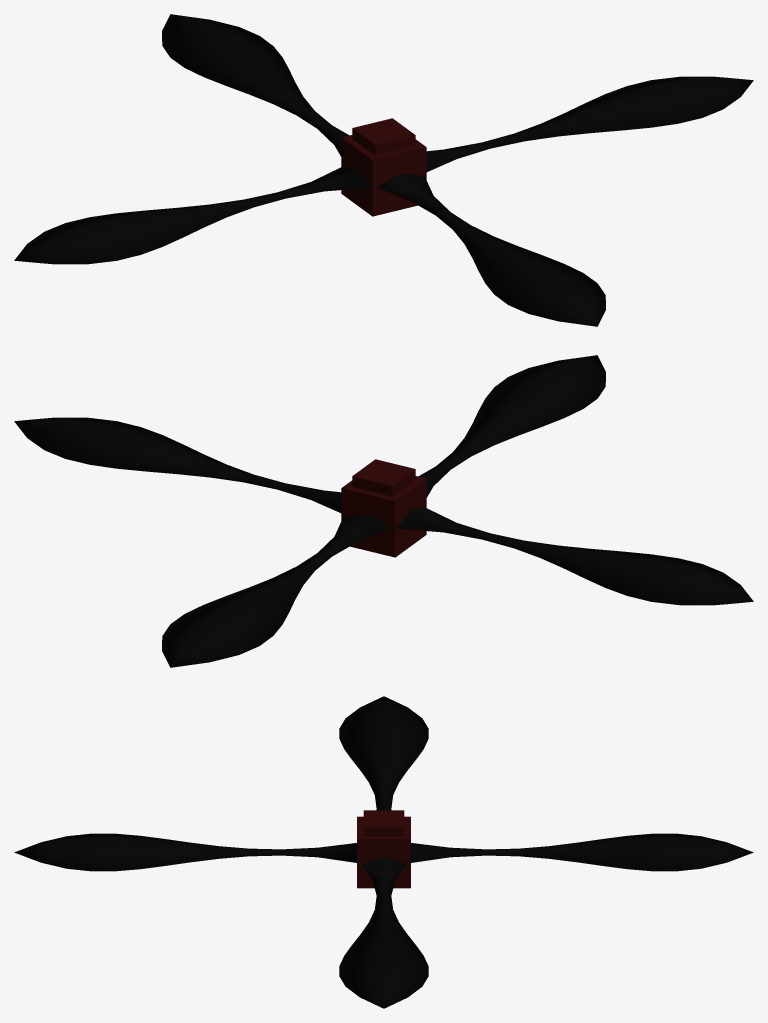
Rendered from GlassCannonFan.fbx.
The picture shows the model from 3 angles, top to bottom: view 1: azimuth 30°, elevation 25°; view 2: azimuth 150°, elevation 25°; view 3: azimuth 270°, elevation 25°; orthographic projection. The views are drawn at different scales.
Visible parts, largest first — view 1: propeller_left; view 2: propeller_left; view 3: propeller_left.
Boxes of the visible parts, x1,y1,x2,y2 form: propeller_left: (14,14,753,326); propeller_left: (14,355,753,667); propeller_left: (14,696,753,1008).
Bounding box in the file's own units: 21244 × 1839 × 21244.
